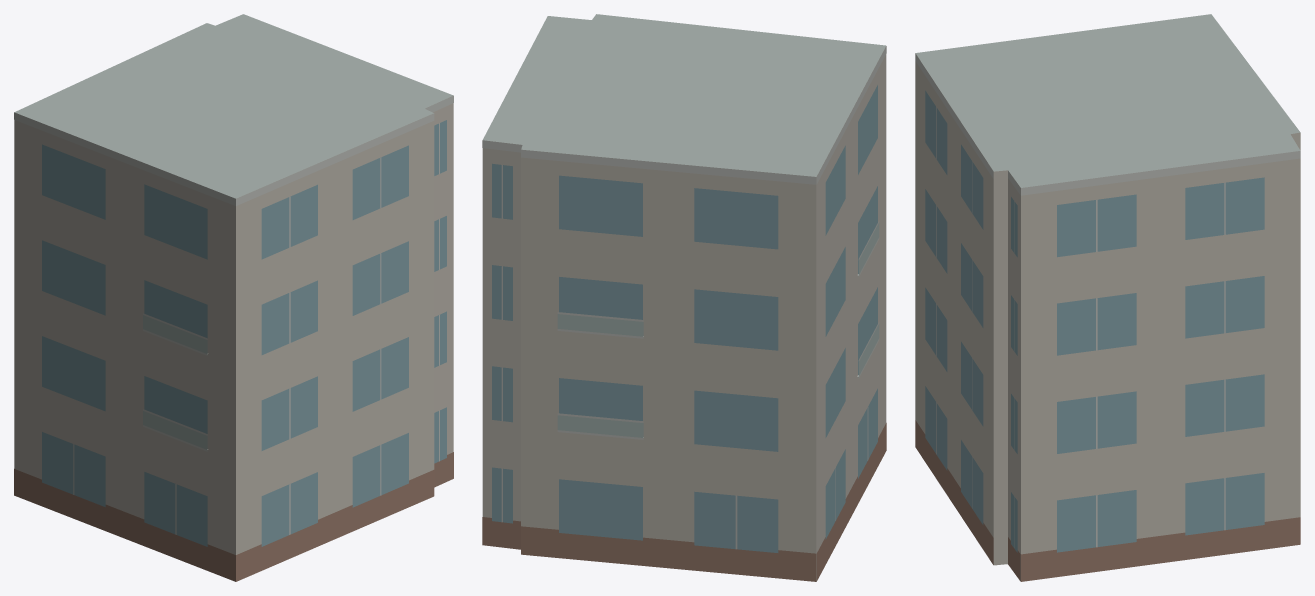
The model's file is survey-upis-32616978.glb.
3 views of the same model, side by side, from view 1: azimuth 30°, elevation 25°; view 2: azimuth 150°, elevation 25°; view 3: azimuth 270°, elevation 25° (orthographic). The views are drawn at different scales.
Visible parts, largest first — view 1: survey-upis-32616978.tmp; view 2: survey-upis-32616978.tmp; view 3: survey-upis-32616978.tmp.
Boxes of the visible parts, <box> form: survey-upis-32616978.tmp: <box>14,14,453,581</box>; survey-upis-32616978.tmp: <box>482,14,886,581</box>; survey-upis-32616978.tmp: <box>915,14,1300,581</box>.
Bounding box in the file's own units: 11.86 × 12.5 × 11.09.
